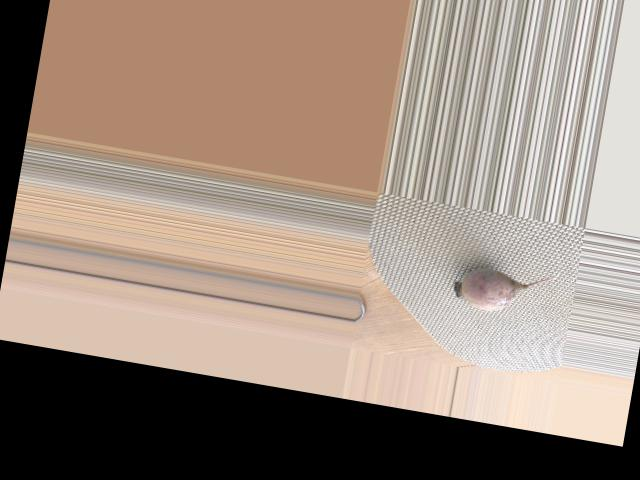beet: (450, 253, 559, 321)
